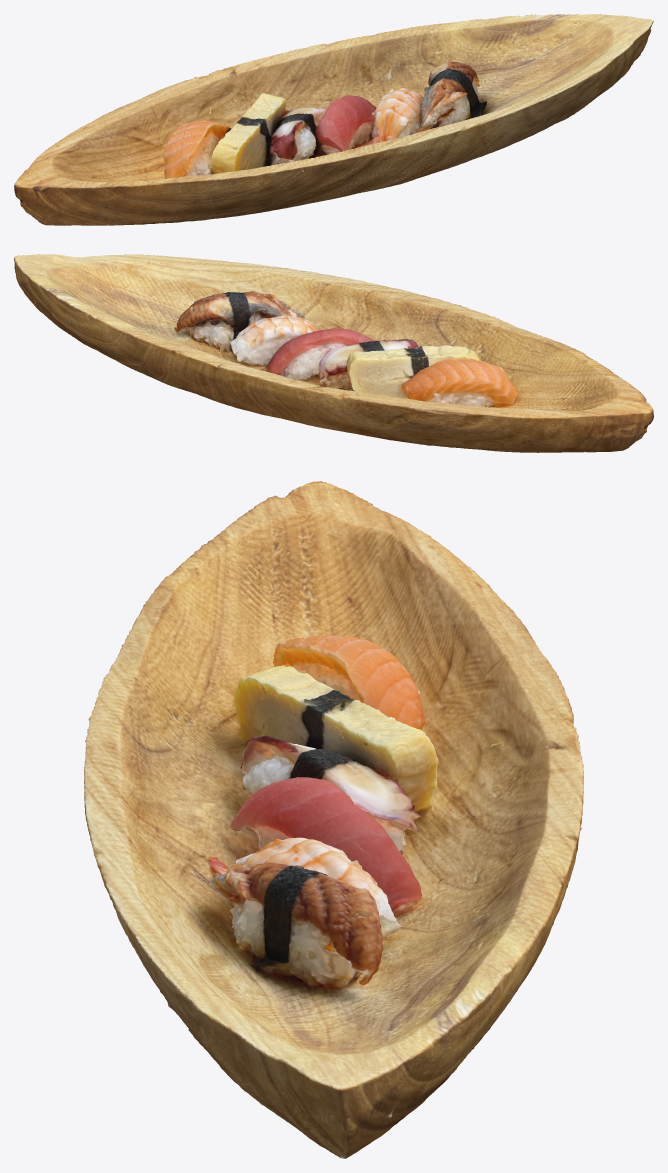
File: sushi_boat_nigiri.glb
3 renders of one model, top to bottom at view 1: azimuth 30°, elevation 25°; view 2: azimuth 150°, elevation 25°; view 3: azimuth 270°, elevation 25°, orthographic. The views are drawn at different scales.
Parts seen in each view (by area): view 1: Object_2, Object_3; view 2: Object_2, Object_3; view 3: Object_2, Object_3.
Part boxes in pixels (<box>): Object_2: <box>14,14,653,225</box>; Object_3: <box>54,14,651,225</box>; Object_2: <box>14,254,653,452</box>; Object_3: <box>14,255,640,450</box>; Object_2: <box>84,481,583,1151</box>; Object_3: <box>84,508,582,1158</box>.
Bounding box in the file's own units: 0.4573 × 0.0398 × 0.1563.
1 material, 1 textured.
